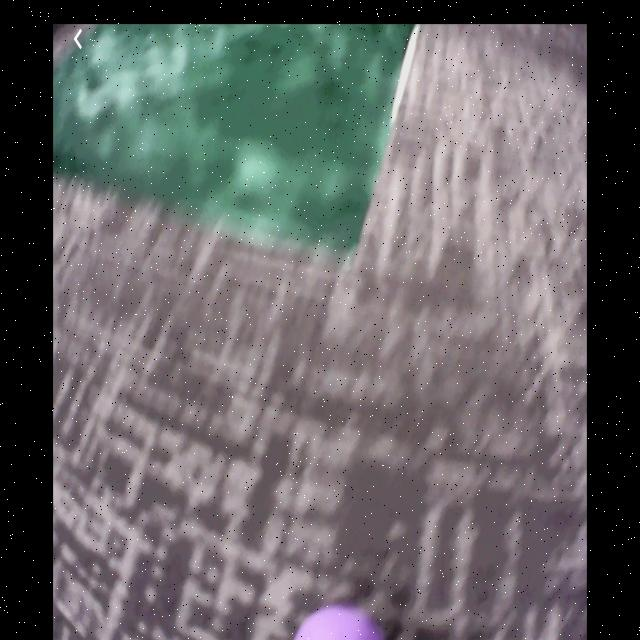ball: (295, 601, 383, 640)
